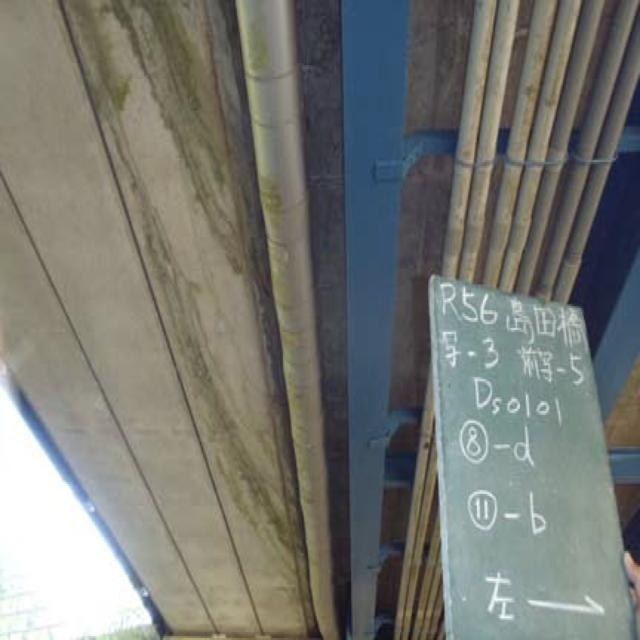leakage: (120, 19, 294, 554)
